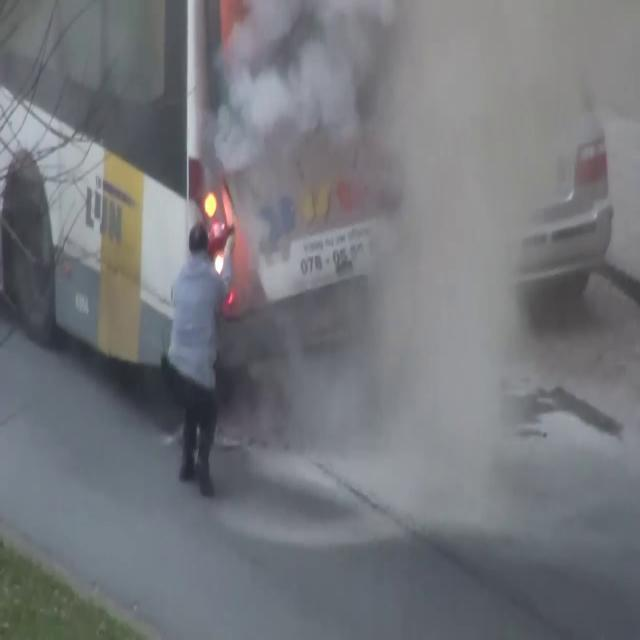Smoke: (201, 0, 640, 346)
